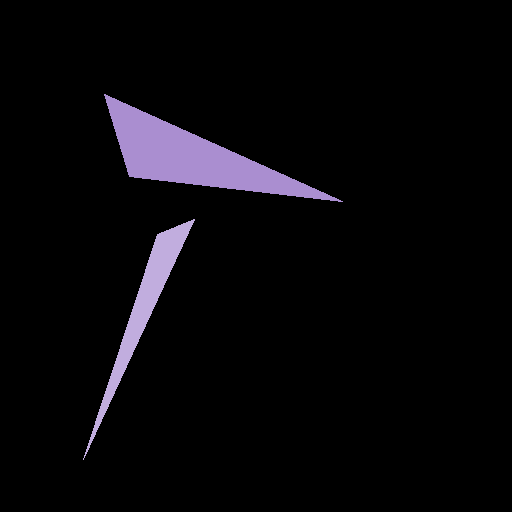triangle: (83, 219, 194, 459), (104, 94, 342, 201)
